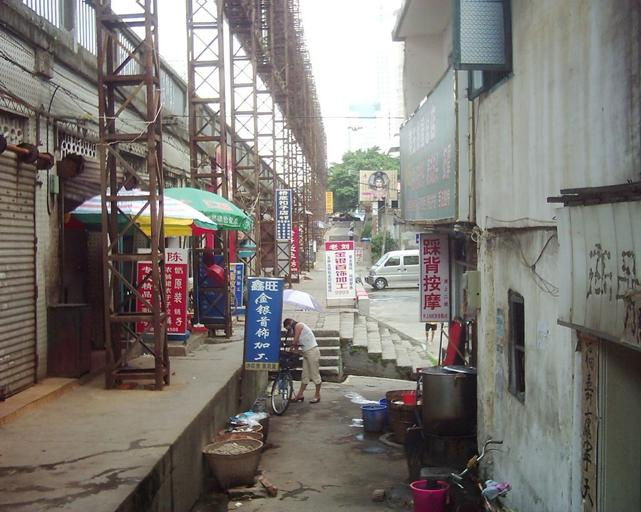non-vehicle: (450, 438, 513, 510), (269, 342, 305, 415)
